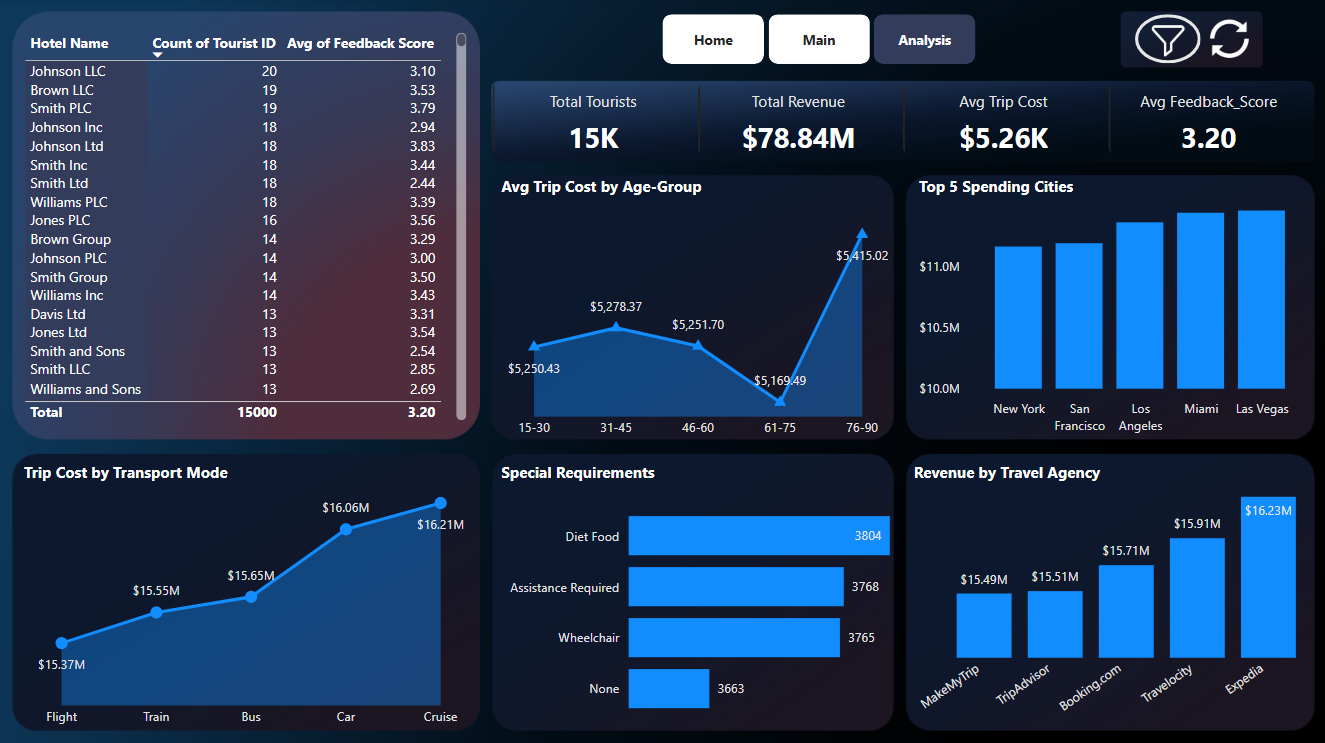

Layout of this report page (visuals, bound fields, positions):
{"tool":"powerbi","page":{"name":"Analysis","canvas":[1280,720],"ordinal":1},"visuals":[{"type":"shape","box":[1094.9,15.4,63.5,47.4],"z":0,"group":"g1"},{"type":"pieChart","title":"Trip Cost by Transport Mode","fields":{"Category":["American Tourist Data.Transport_Mode"],"Y":["Sum(American Tourist Data.Total_Trip_Cost)"]},"box":[18.1,447.6,444,259.4],"z":0},{"type":"image","title":"Filter Icon","box":[1093.8,17.1,65.8,47.4],"z":1000,"group":"g1"},{"type":"columnChart","title":"Revenue by Travel Agency","fields":{"Category":["American Tourist Data.Travel_Agency"],"Y":["Sum(American Tourist Data.Total_Trip_Cost)"]},"box":[881.9,447.6,398.1,259.4],"z":1000},{"type":"tableEx","fields":{"Values":["American Tourist Data.Hotel_Name","American Tourist Data.Tourist_ID","Avg(American Tourist Data.Feedback_Score)"]},"box":[18.1,29,436.7,383.6],"z":2000},{"type":"clusteredBarChart","title":"Special Requirements","fields":{"Category":["American Tourist Data.Special_Requirements"],"Y":["CountNonNull(American Tourist Data.Tourist_ID)"]},"box":[483.8,447.6,380,259.4],"z":3000},{"type":"columnChart","title":"Top 5 Spending Cities","fields":{"Category":["American Tourist Data.Destination_City"],"Y":["Sum(American Tourist Data.Total_Trip_Cost)"]},"box":[881.9,171.3,388.5,257],"z":4000},{"type":"areaChart","title":"Avg Trip Cost by Age-Group","fields":{"Category":["American Tourist Data.Age_Group"],"Y":["Avg(American Tourist Data.Total_Trip_Cost)"]},"box":[483.8,171.3,380,257],"z":5000},{"type":"cardVisual","fields":{"Data":["CountNonNull(American Tourist Data.Tourist_ID)","Sum(American Tourist Data.Total_Trip_Cost)","Avg(American Tourist Data.Total_Trip_Cost)","Avg(American Tourist Data.Feedback_Score)"]},"box":[470.5,72.4,799.9,88.1],"z":6000},{"type":"pageNavigator","box":[639.5,15.9,304.5,48.9],"z":7000},{"type":"shape","box":[1066,17.9,131.5,53.5],"z":8000},{"type":"shape","box":[1088.2,11.1,131.5,53.5],"z":13000,"group":"g2"},{"type":"image","title":"Refresh Icon","box":[1157.1,6.7,59.1,63.9],"z":14000,"group":"g2"},{"type":"group","id":"g1","title":"Filter Panel","box":[1093.8,15.4,65.8,49.2],"z":15000,"group":"g2"},{"type":"group","id":"g2","title":"Buttons","box":[1088.2,6.7,131.5,63.9],"z":15001}]}

Visuals, with their boxes in screenshot pixels (x1, y1, x2, y2), scaled from the page's 1280x720 canvas onto the 1325x743 screenshot:
shape: {"left": 1133, "top": 16, "right": 1199, "bottom": 65}
"Trip Cost by Transport Mode" pieChart: {"left": 19, "top": 462, "right": 478, "bottom": 730}
"Filter Icon" image: {"left": 1132, "top": 18, "right": 1200, "bottom": 67}
"Revenue by Travel Agency" columnChart: {"left": 913, "top": 462, "right": 1324, "bottom": 730}
tableEx - American Tourist Data.Hotel_Name x American Tourist Data.Tourist_ID: {"left": 19, "top": 30, "right": 471, "bottom": 426}
"Special Requirements" clusteredBarChart: {"left": 501, "top": 462, "right": 894, "bottom": 730}
"Top 5 Spending Cities" columnChart: {"left": 913, "top": 177, "right": 1315, "bottom": 442}
"Avg Trip Cost by Age-Group" areaChart: {"left": 501, "top": 177, "right": 894, "bottom": 442}
cardVisual - CountNonNull(American Tourist Data.Tourist_ID) x Sum(American Tourist Data.Total_Trip_Cost): {"left": 487, "top": 75, "right": 1315, "bottom": 166}
pageNavigator: {"left": 662, "top": 16, "right": 977, "bottom": 67}
shape: {"left": 1103, "top": 18, "right": 1240, "bottom": 74}
shape: {"left": 1126, "top": 11, "right": 1263, "bottom": 67}
"Refresh Icon" image: {"left": 1198, "top": 7, "right": 1259, "bottom": 73}
"Filter Panel" group: {"left": 1132, "top": 16, "right": 1200, "bottom": 67}
"Buttons" group: {"left": 1126, "top": 7, "right": 1263, "bottom": 73}
